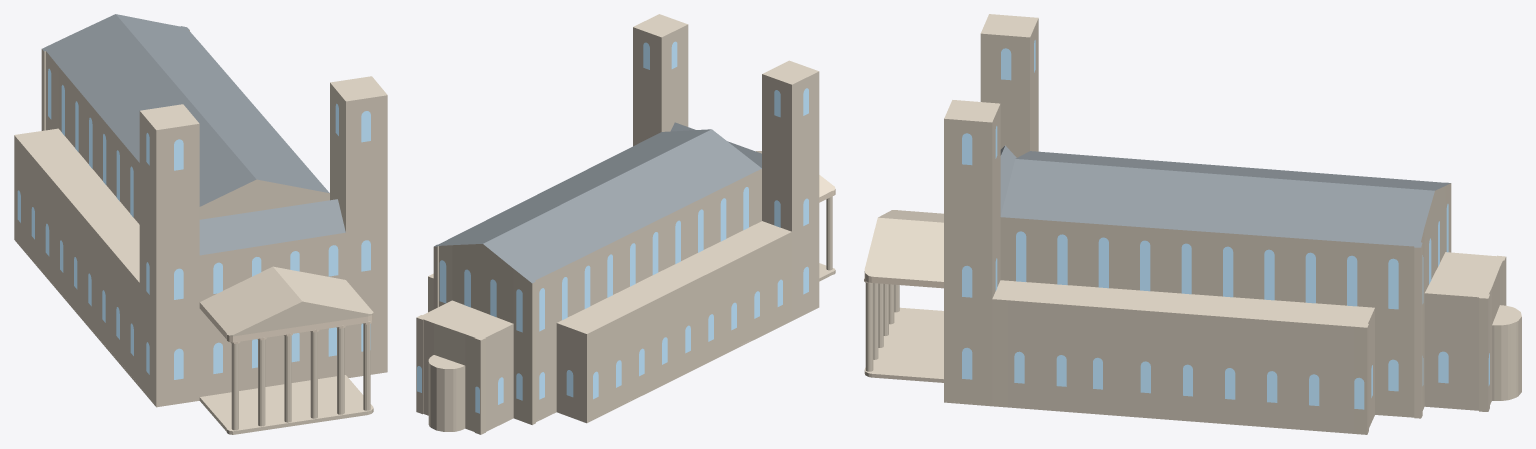
3 renders of one model, left to right at view 1: azimuth 30°, elevation 25°; view 2: azimuth 150°, elevation 25°; view 3: azimuth 270°, elevation 25°, orthographic. The views are drawn at different scales.
Parts seen in each view (by area): view 1: stone, roof, window, trim; view 2: stone, roof, window; view 3: stone, roof, window.
Part boxes in pixels (x1,y1,x2,y2): stone: [14, 30, 387, 434]; roof: [42, 14, 345, 255]; window: [17, 68, 370, 379]; trim: [199, 302, 373, 343]; stone: [416, 14, 835, 434]; roof: [434, 122, 761, 283]; window: [417, 41, 808, 413]; stone: [864, 14, 1521, 434]; roof: [1000, 145, 1450, 247]; window: [962, 40, 1489, 409].
Bounding box in the file's own units: 46.64 × 45 × 94.52.
